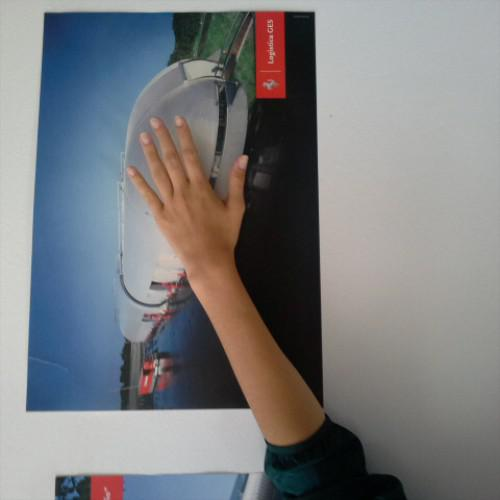paper: (123, 110, 252, 280)
